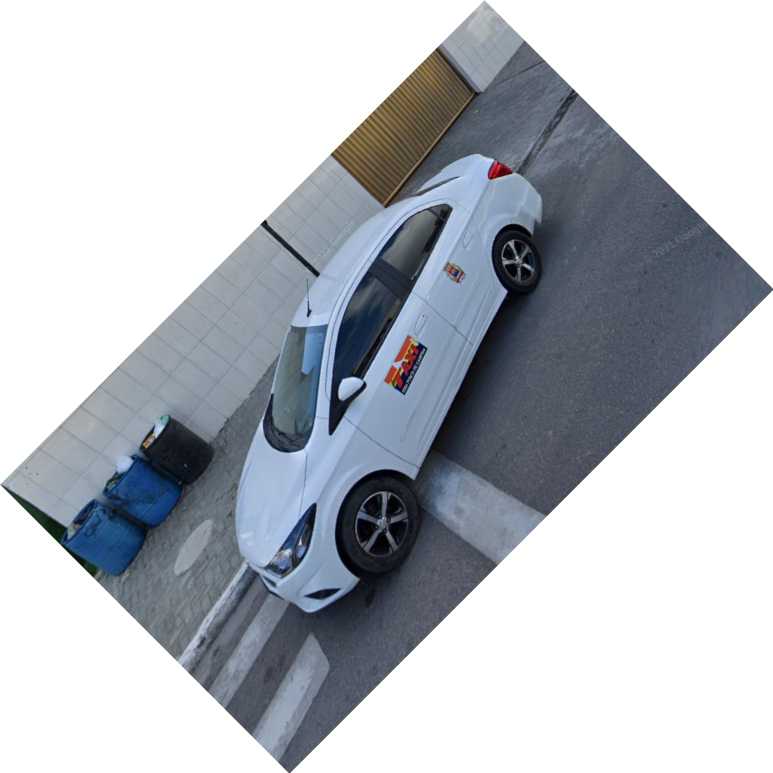car: (232, 150, 549, 615)
